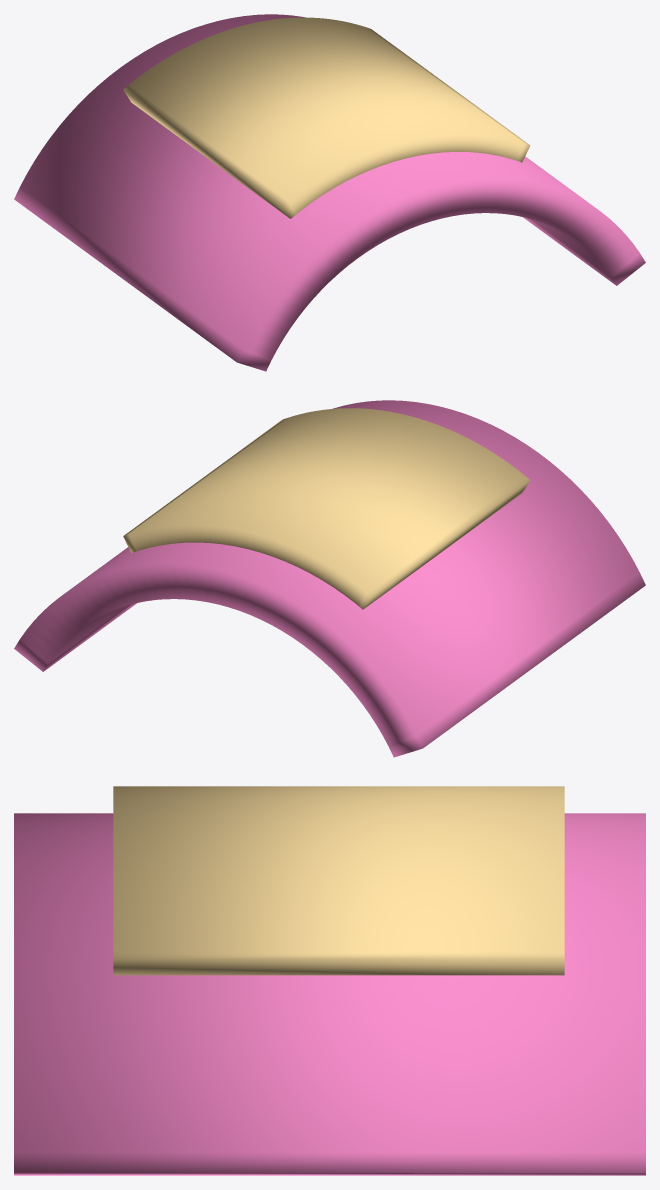
The model's file is unicorn_saddle.glb.
3 views of the same model, one above another, from view 1: azimuth 30°, elevation 25°; view 2: azimuth 150°, elevation 25°; view 3: azimuth 270°, elevation 25° (orthographic). The views are drawn at different scales.
Visible parts, largest first — view 1: ride_blanket, ride_seat; view 2: ride_blanket, ride_seat; view 3: ride_blanket, ride_seat.
Boxes of the visible parts, x1=… form: ride_blanket: x1=14, y1=14, x2=645, y2=371; ride_seat: x1=123, y1=17, x2=530, y2=218; ride_blanket: x1=14, y1=400, x2=645, y2=757; ride_seat: x1=123, y1=408, x2=530, y2=609; ride_blanket: x1=14, y1=813, x2=645, y2=1175; ride_seat: x1=113, y1=786, x2=564, y2=975.
Size of the model in its own units: 0.7417 by 0.281 by 0.7.
